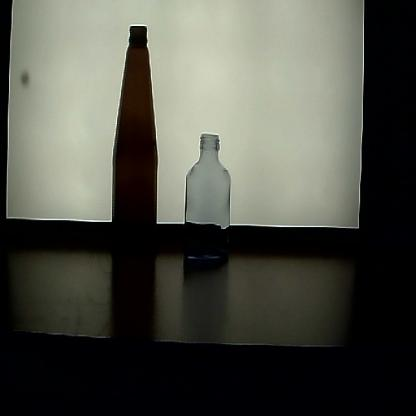Can: (106, 19, 158, 266), (180, 128, 233, 266)
